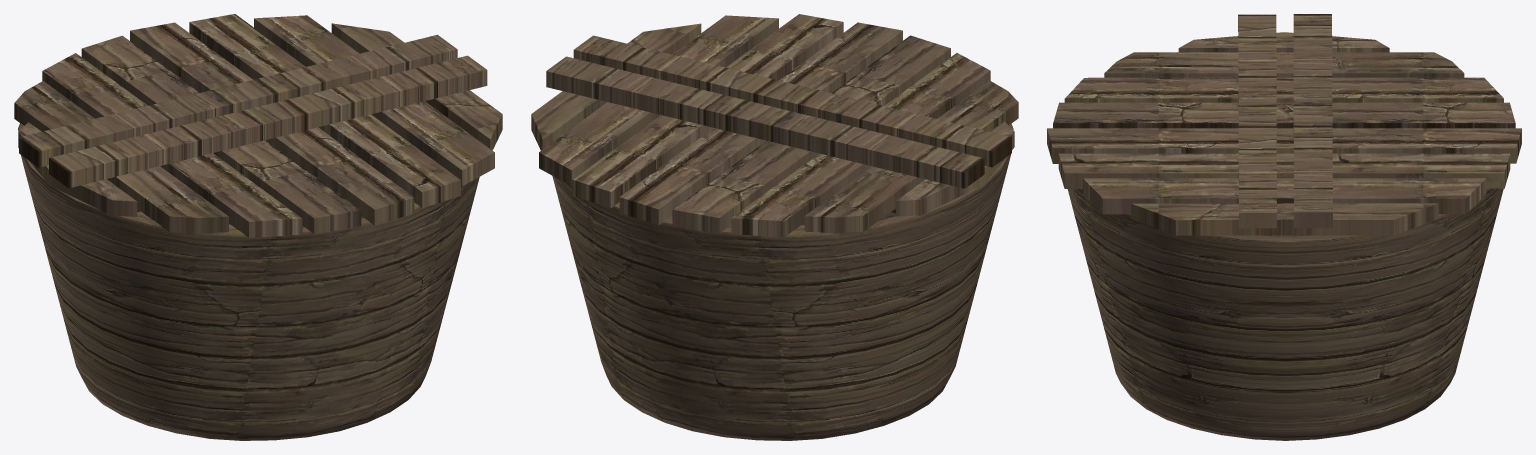
The model's file is Wood_Vet.fbx.
3 renders of one model, left to right at view 1: azimuth 30°, elevation 25°; view 2: azimuth 150°, elevation 25°; view 3: azimuth 270°, elevation 25°, orthographic. The views are drawn at different scales.
Parts seen in each view (by area): view 1: Wood_Vet_Cover, Wood_Vet; view 2: Wood_Vet_Cover, Wood_Vet; view 3: Wood_Vet_Cover, Wood_Vet.
Boxes of the visible parts, box(x1,y1,x2,y2) form: Wood_Vet_Cover: box(14, 14, 502, 237); Wood_Vet: box(18, 123, 479, 440); Wood_Vet_Cover: box(531, 14, 1018, 237); Wood_Vet: box(552, 123, 1013, 440); Wood_Vet_Cover: box(1047, 14, 1521, 235); Wood_Vet: box(1067, 188, 1503, 440).
Bounding box in the file's own units: 0.4942 × 0.301 × 0.4987.
Materials: 1 (1 with a texture image).
